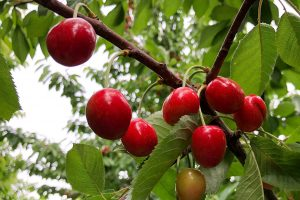Cherry: (44, 16, 98, 68), (83, 88, 134, 141), (205, 74, 245, 116), (160, 86, 200, 127), (191, 124, 228, 168), (122, 118, 159, 156), (235, 93, 269, 132), (175, 167, 210, 200)
